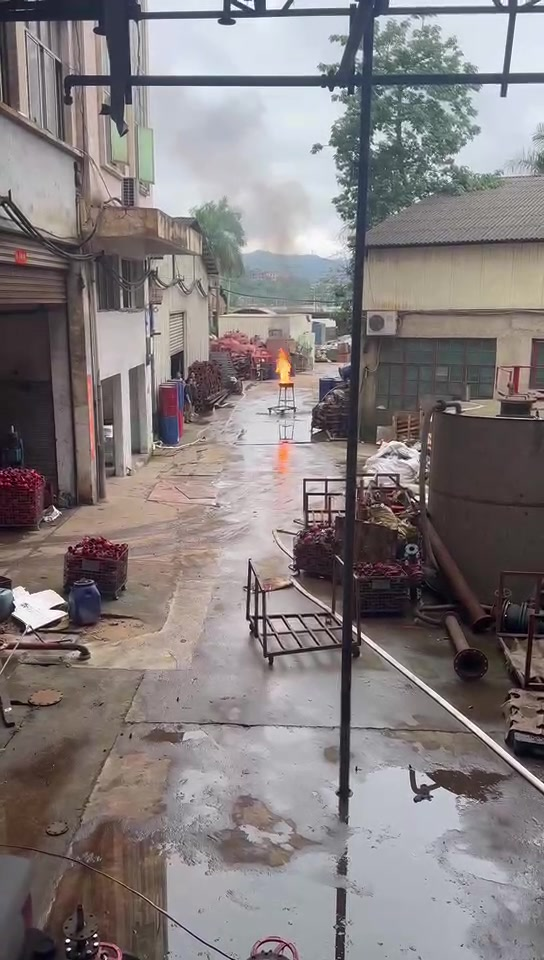fire: (275, 345, 291, 383)
